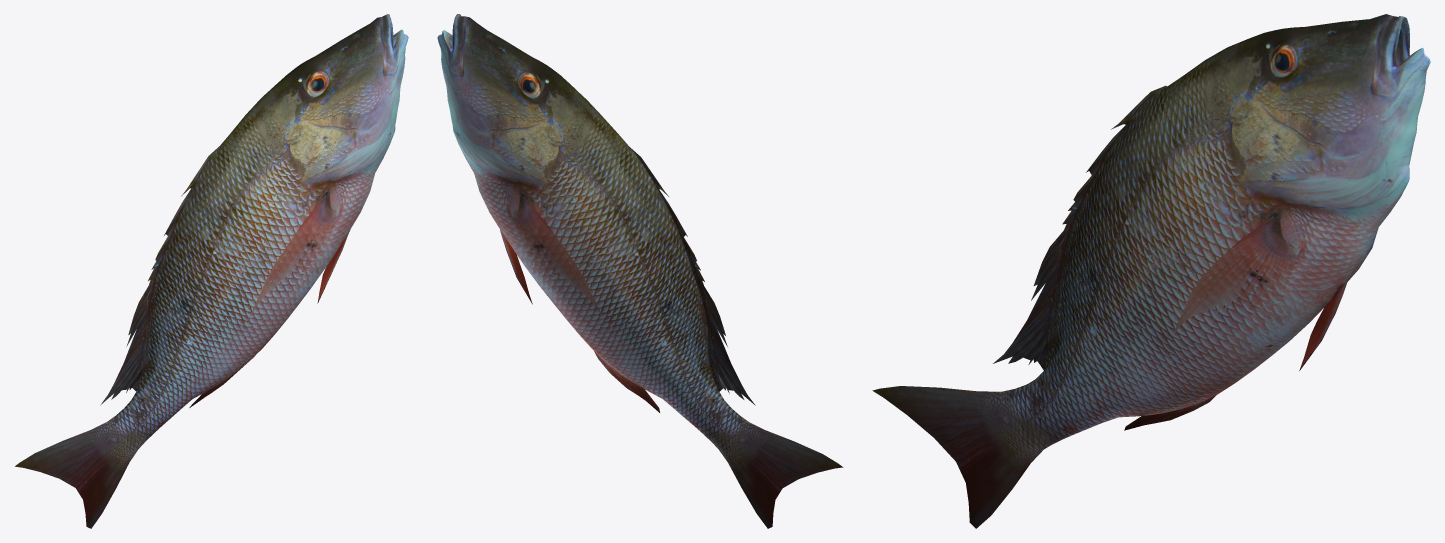
File: fish.obj
The picture shows the model from 3 angles, left to right: view 1: azimuth 30°, elevation 25°; view 2: azimuth 150°, elevation 25°; view 3: azimuth 330°, elevation 25°; orthographic projection. The views are drawn at different scales.
Parts seen in each view (by area): view 1: fishOBJ; view 2: fishOBJ; view 3: fishOBJ.
Boxes of the visible parts, <box> form: fishOBJ: <box>15,14,408,528</box>; fishOBJ: <box>437,14,843,528</box>; fishOBJ: <box>872,14,1430,528</box>.
Bounding box in the file's own units: 9.26 × 9.76 × 1.24.
